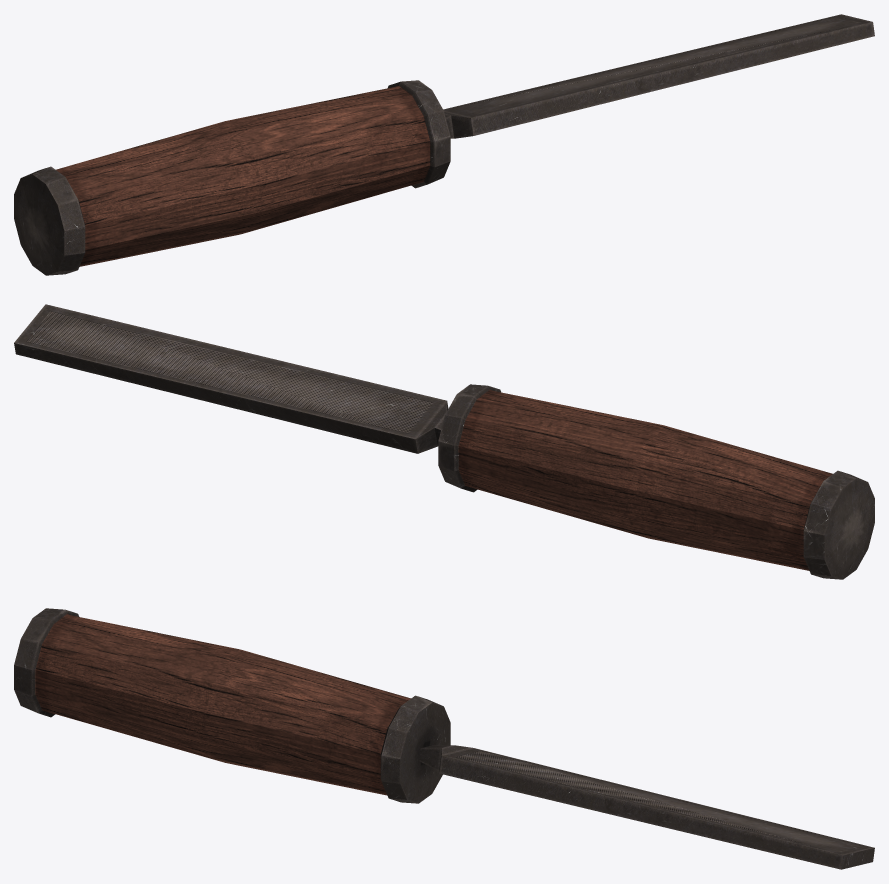
Rendered from File_MPI01_fbx.fbx.
The picture shows the model from 3 angles, top to bottom: view 1: azimuth 30°, elevation 25°; view 2: azimuth 150°, elevation 25°; view 3: azimuth 330°, elevation 25°; orthographic projection.
Parts seen in each view (by area): view 1: file01; view 2: file01; view 3: file01.
Boxes of the visible parts, left/top/right/bottom form: file01: left=14, top=14, right=874, bottom=275; file01: left=14, top=304, right=874, bottom=579; file01: left=14, top=608, right=874, bottom=869.
Size of the model in its own units: 18.05 by 2.14 by 2.14.
Materials: 1 (1 with a texture image).
